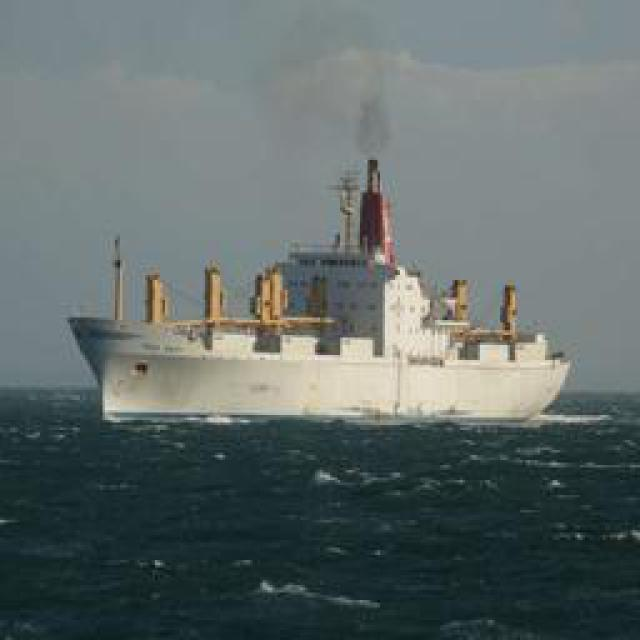Ship: (83, 267, 578, 427)
